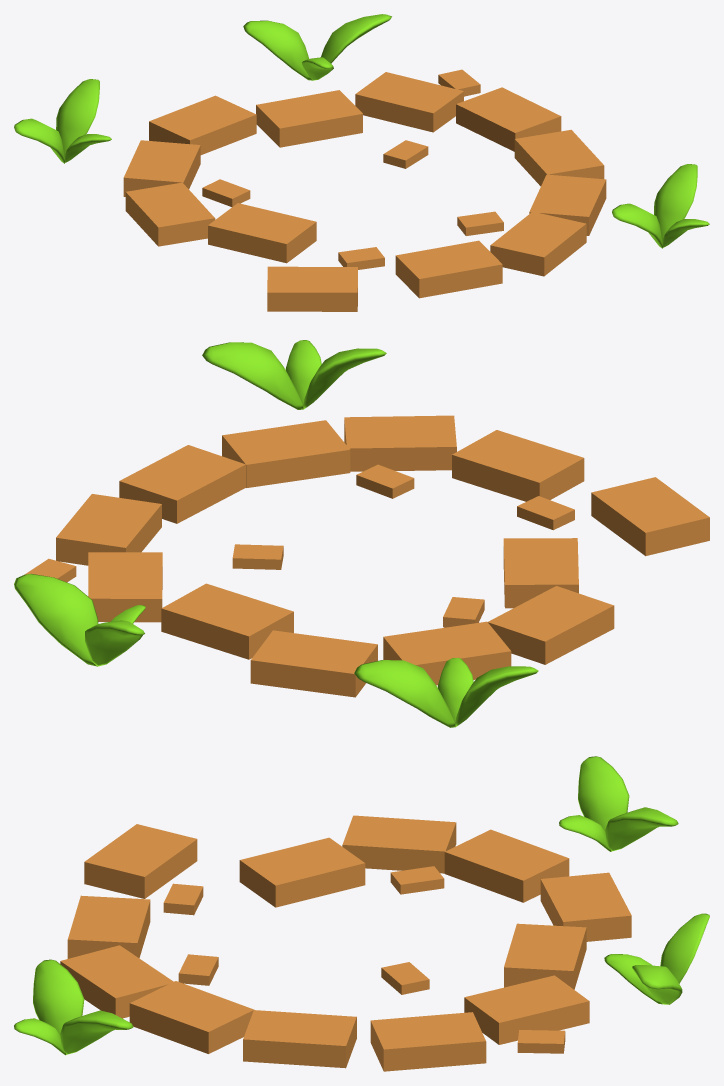
The model's file is start_position_1_1.fbx.
The picture shows the model from 3 angles, top to bottom: view 1: azimuth 30°, elevation 25°; view 2: azimuth 150°, elevation 25°; view 3: azimuth 270°, elevation 25°; orthographic projection. The views are drawn at different scales.
Visible parts, largest first — view 1: Cube.037; view 2: Cube.037; view 3: Cube.037.
Boxes of the visible parts, x1=… form: Cube.037: x1=14, y1=14, x2=709, y2=311; Cube.037: x1=14, y1=340, x2=709, y2=727; Cube.037: x1=14, y1=756, x2=709, y2=1071.
Size of the model in its own units: 136 by 15.24 by 149.
